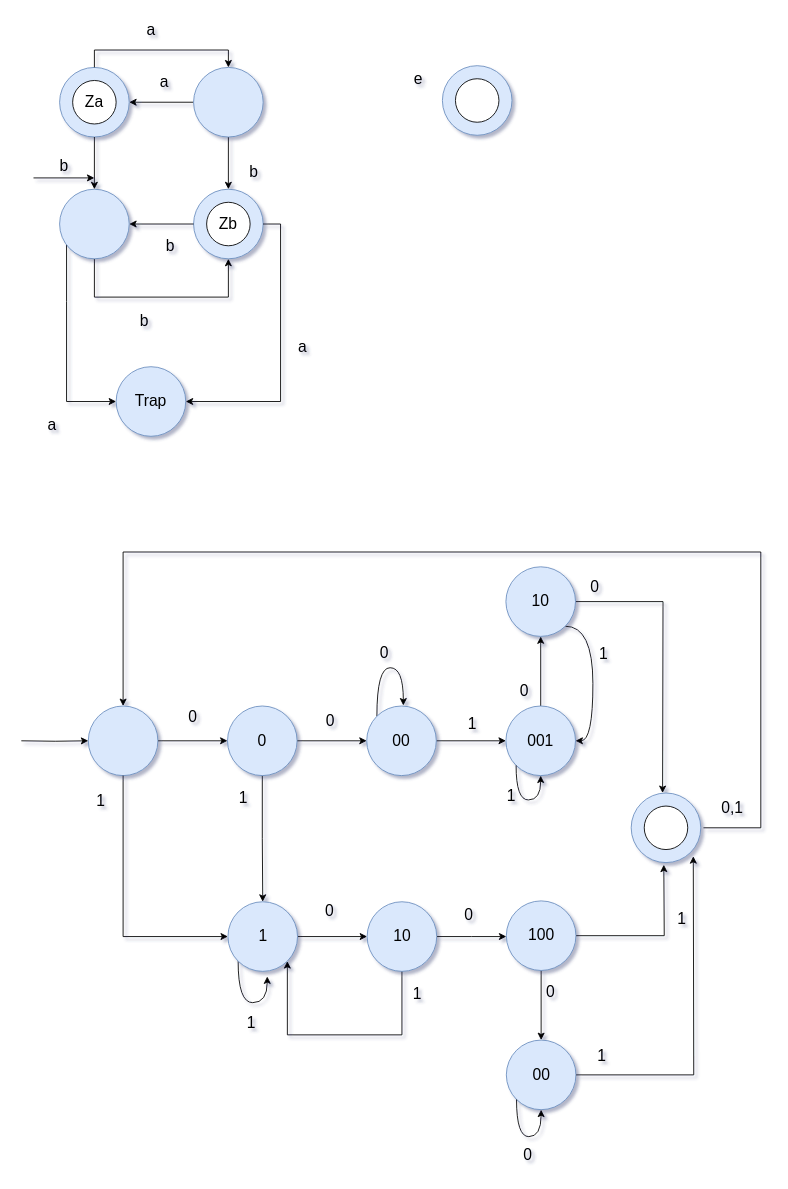
The diagram is 788 pixels wide and 1189 high, and some of its shapes have lost their labels. The shapes that lost their labels are listed below. From the top down, each one's centre as x and y in pixels, then its label:
(228,102): Fa
(94,223): Fb
